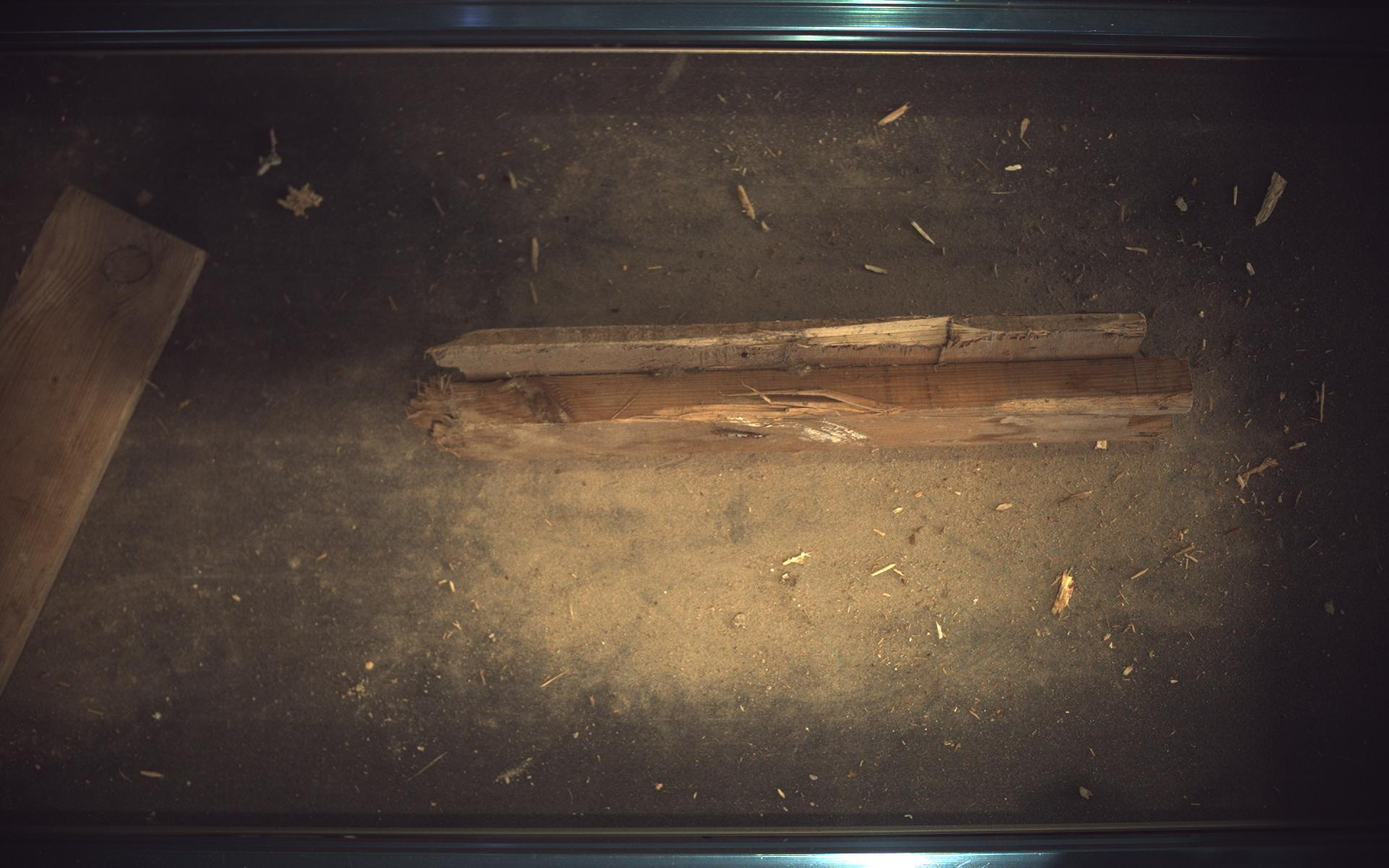wood: (407, 312, 1196, 460)
